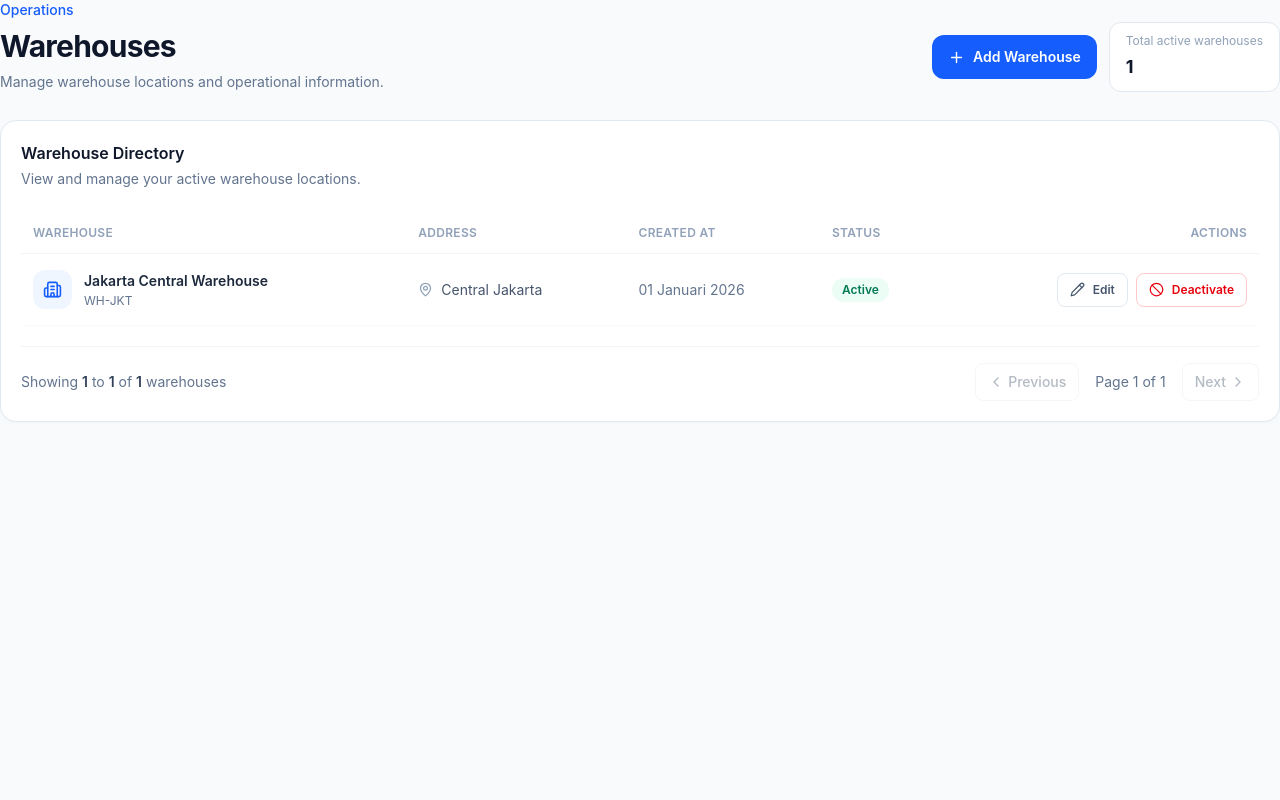
it: WarehousesPage › deactivates a warehouse only after confirmation
Check: the text "Jakarta Central Warehouse" is shown, box [84,270,268,290]
Click the button with aria-label "Deactivate Jakarta Central Warehouse". click: x=1191, y=290
box: [1136,272,1247,306]
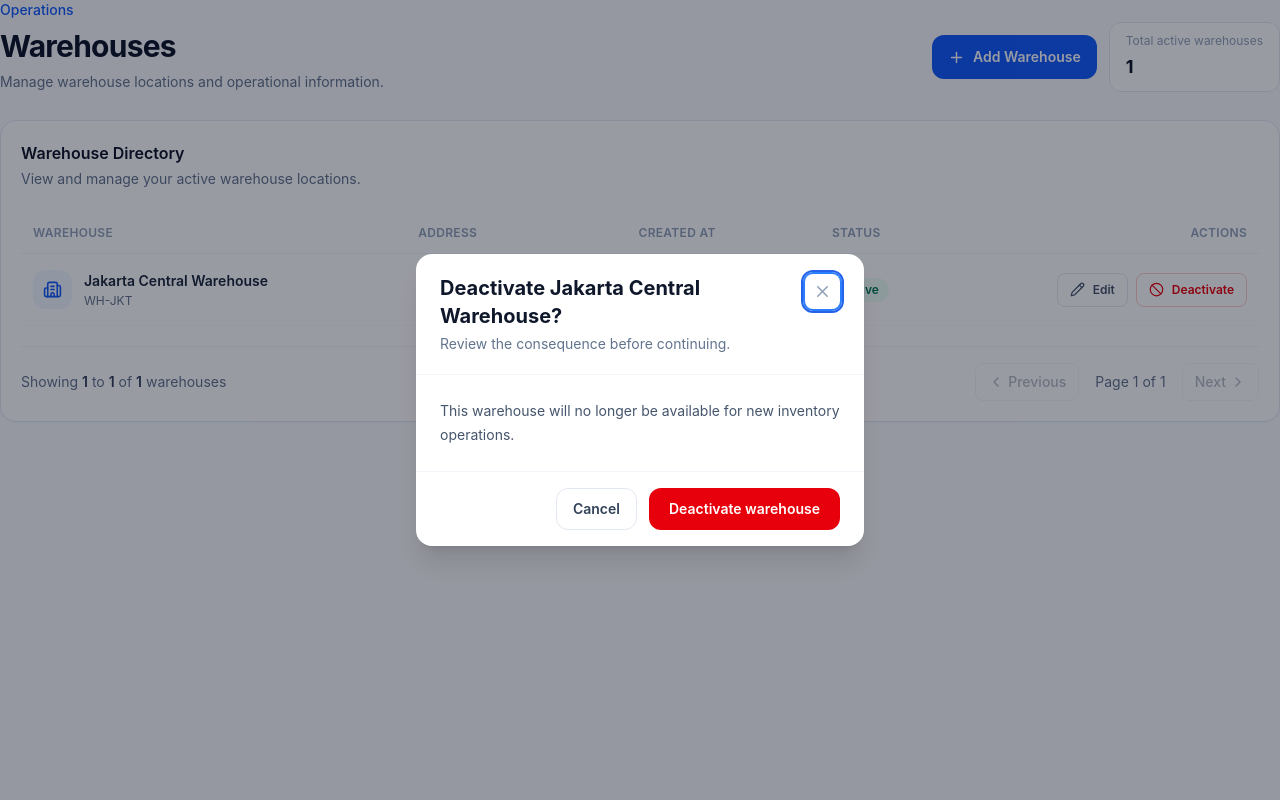
Click the button "Deactivate warehouse". click: x=744, y=509
box: [649,488,840,530]
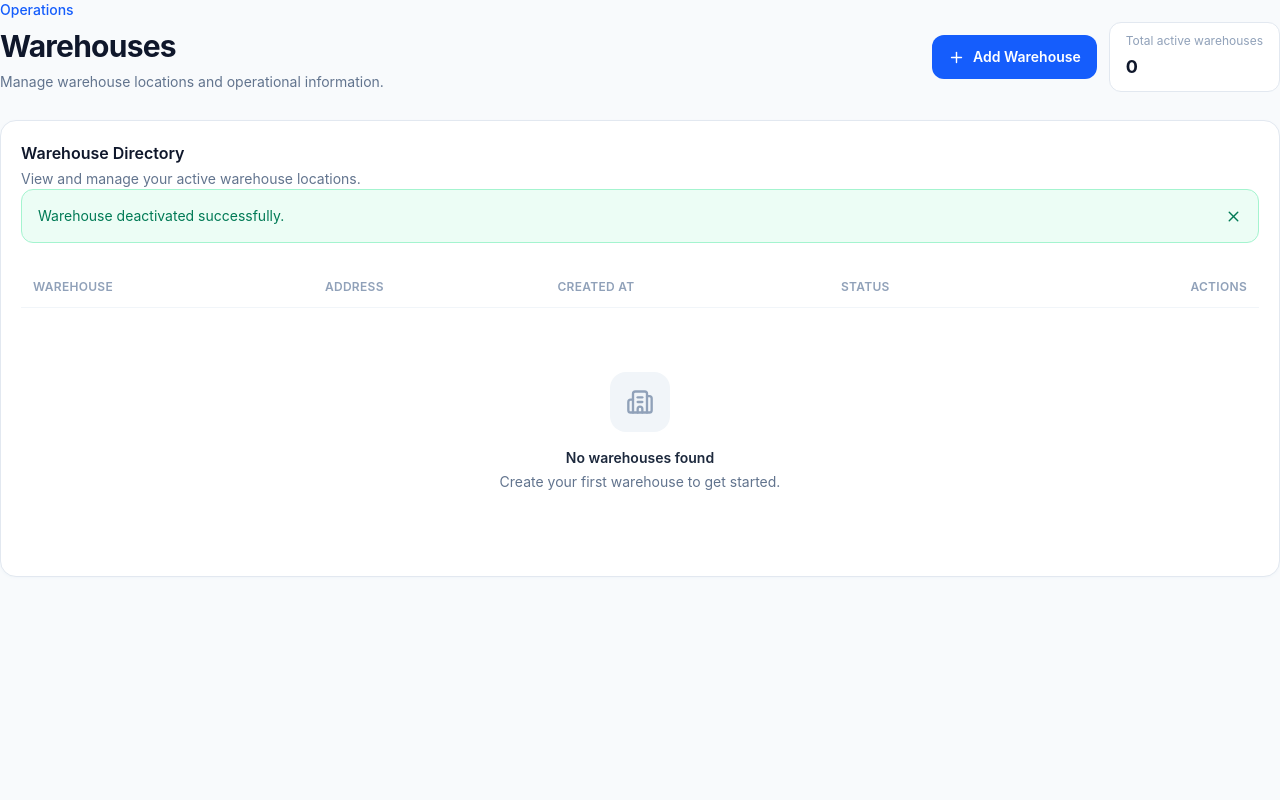
Check: the text "Jakarta Central Warehouse" is gone
Check: the text "No warehouses found" is shown, box [566,448,714,468]
